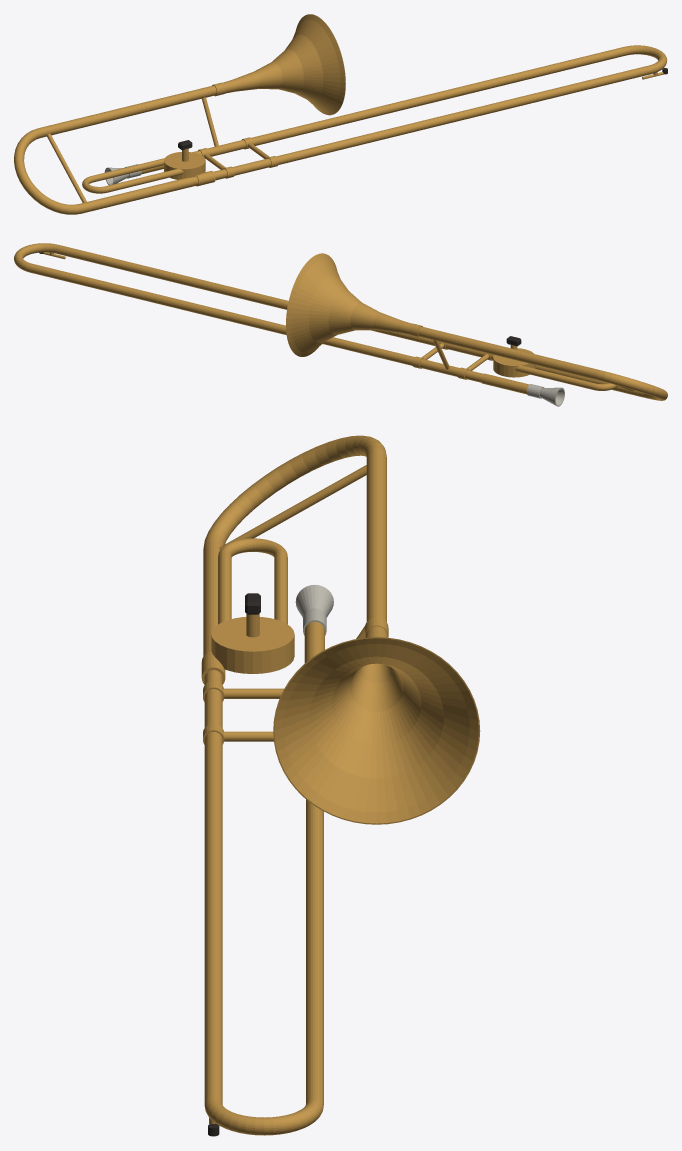
File: full.glb
3 renders of one model, top to bottom at view 1: azimuth 30°, elevation 25°; view 2: azimuth 150°, elevation 25°; view 3: azimuth 270°, elevation 25°, orthographic. The views are drawn at different scales.
Parts seen in each view (by area): view 1: Long hollow slide U, Open flared bell with inner wall, Rear tuning U and bell stem, Short attachment U, Generic rotary attachment casing, Bell rear support; view 2: Long hollow slide U, Open flared bell with inner wall, Rear tuning U and bell stem, Short attachment U, Generic rotary attachment casing, Generic mouthpiece receiver, Generic open mouthpiece cup; view 3: Open flared bell with inner wall, Long hollow slide U, Rear tuning U and bell stem, Generic rotary attachment casing, Short attachment U, Bell rear support.
Boxes of the visible parts, bbox=[...] form: Long hollow slide U: bbox=[192, 45, 667, 180]; Open flared bell with inner wall: bbox=[223, 14, 345, 115]; Rear tuning U and bell stem: bbox=[14, 85, 216, 214]; Short attachment U: bbox=[82, 158, 183, 193]; Generic rotary attachment casing: bbox=[164, 152, 205, 179]; Bell rear support: bbox=[47, 133, 86, 202]; Long hollow slide U: bbox=[14, 243, 493, 382]; Open flared bell with inner wall: bbox=[286, 253, 411, 356]; Rear tuning U and bell stem: bbox=[418, 326, 667, 400]; Short attachment U: bbox=[515, 365, 617, 390]; Generic rotary attachment casing: bbox=[493, 348, 535, 377]; Generic mouthpiece receiver: bbox=[481, 373, 529, 394]; Generic open mouthpiece cup: bbox=[540, 387, 564, 406]; Open flared bell with inner wall: bbox=[273, 626, 480, 824]; Long hollow slide U: bbox=[204, 670, 323, 1135]; Rear tuning U and bell stem: bbox=[203, 435, 386, 656]; Generic rotary attachment casing: bbox=[211, 617, 294, 673]; Short attachment U: bbox=[218, 538, 287, 624]; Bell rear support: bbox=[219, 465, 366, 549].
Size of the model in its own units: 1.3 by 0.199 by 0.2475.
